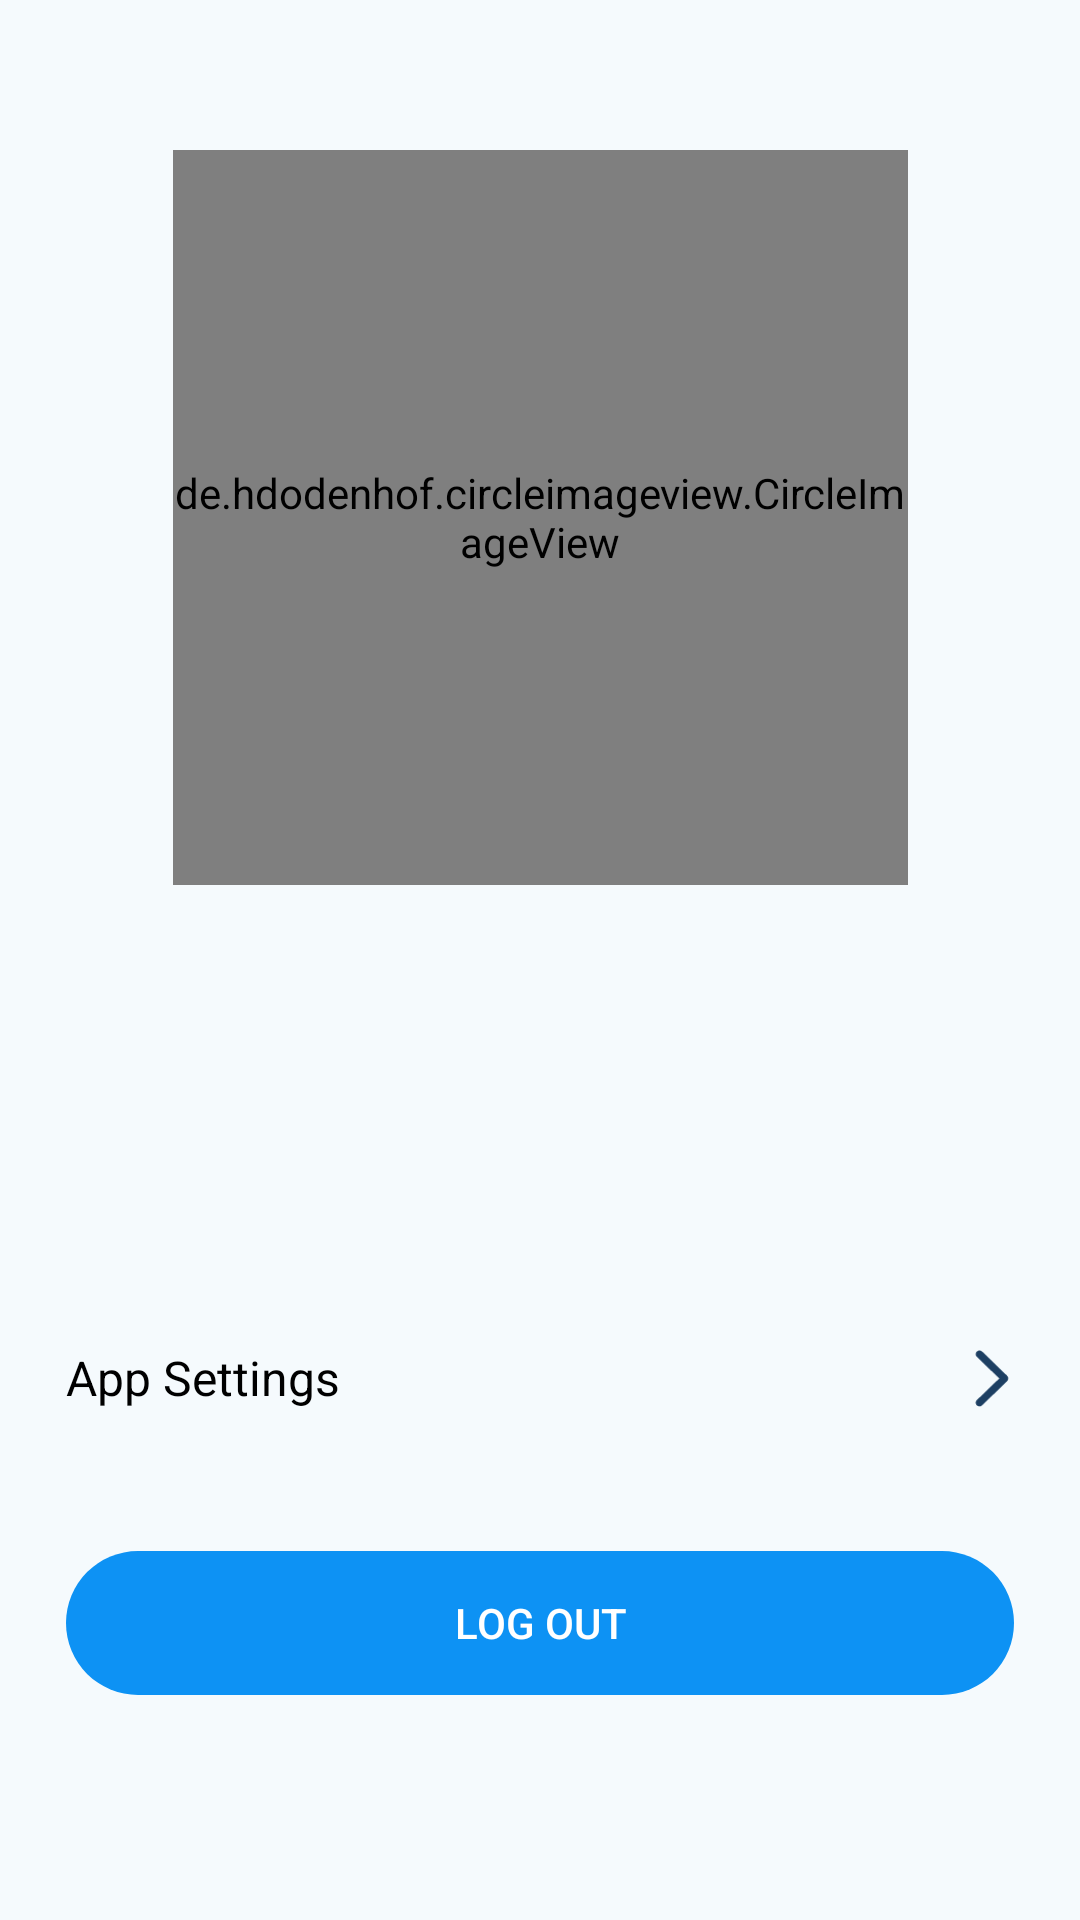

Point at icon controls on the screen. Image size 1080 × 1920, points as point (x, y).
chevron: point (992, 1378)
